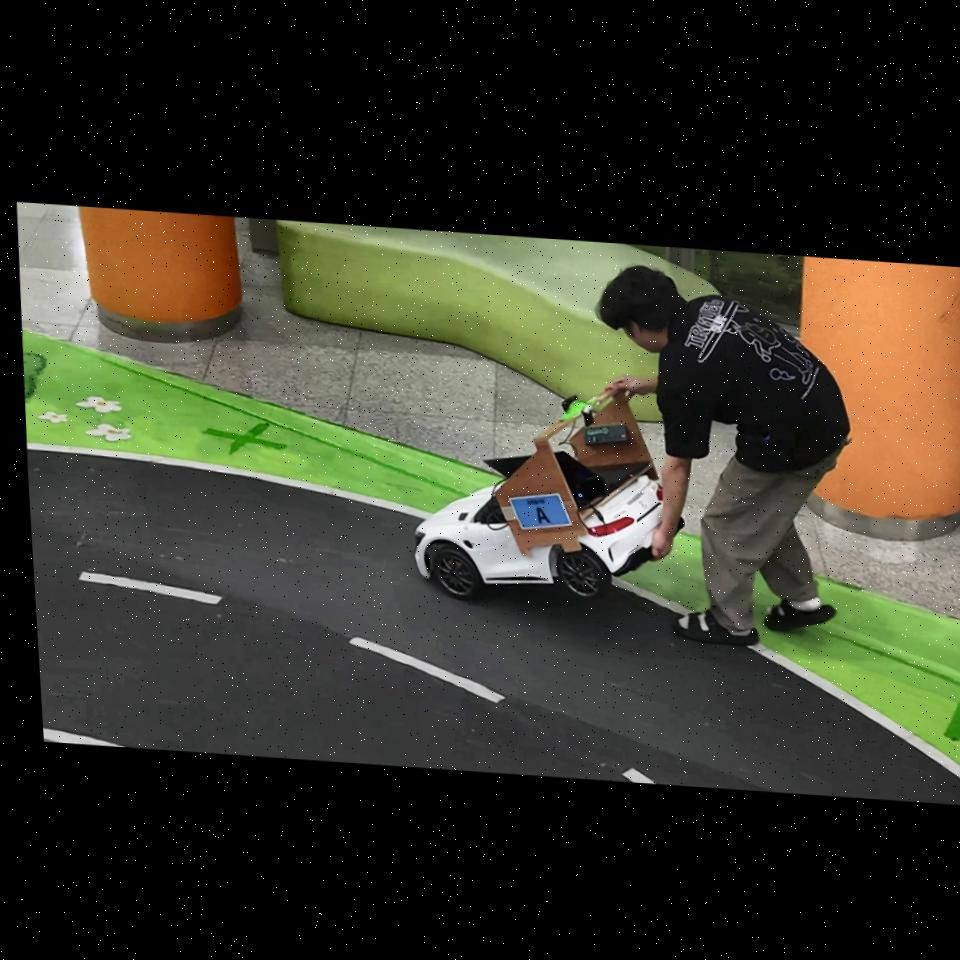broken_line: (347, 637, 506, 703), (78, 572, 223, 604), (623, 768, 656, 784)
